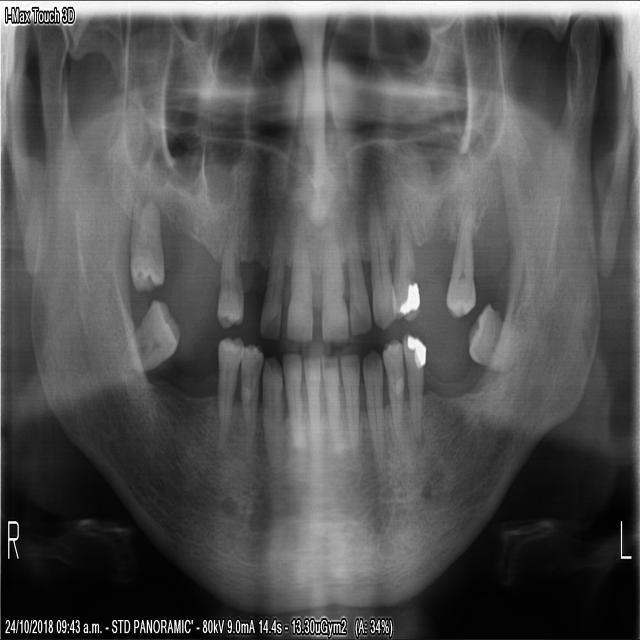LCD: (362, 343, 385, 457)
LCU: (368, 216, 398, 332)
LID: (340, 225, 372, 337), (319, 255, 348, 342), (320, 351, 347, 443), (339, 353, 360, 449)
LMD: (462, 297, 505, 374)
LMU: (442, 200, 476, 322)
LPMD: (400, 324, 428, 450), (380, 337, 406, 452)
LPMU: (391, 210, 419, 321)
RCD: (260, 360, 284, 470)
RID: (280, 347, 310, 464), (301, 351, 324, 444)
RIU: (256, 226, 286, 343), (282, 236, 313, 345)
RMD: (136, 292, 183, 377)
RMU: (126, 191, 164, 293)
RPMD: (212, 332, 245, 439), (239, 333, 261, 446)
RPMU: (210, 228, 242, 332)
